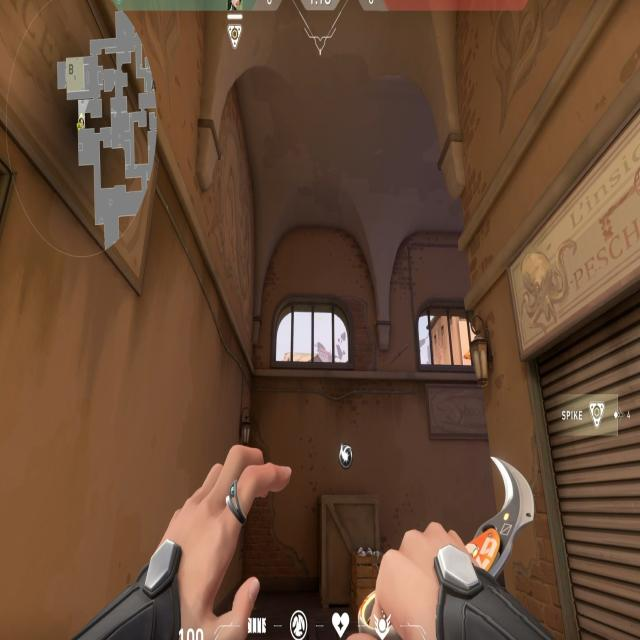B_Main_Wallbang: (309, 431, 403, 635)
Throwables: (274, 282, 360, 389), (406, 289, 482, 387)
